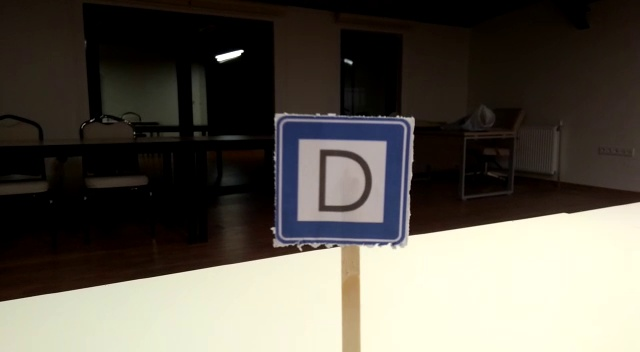durak: (277, 123, 402, 247)
